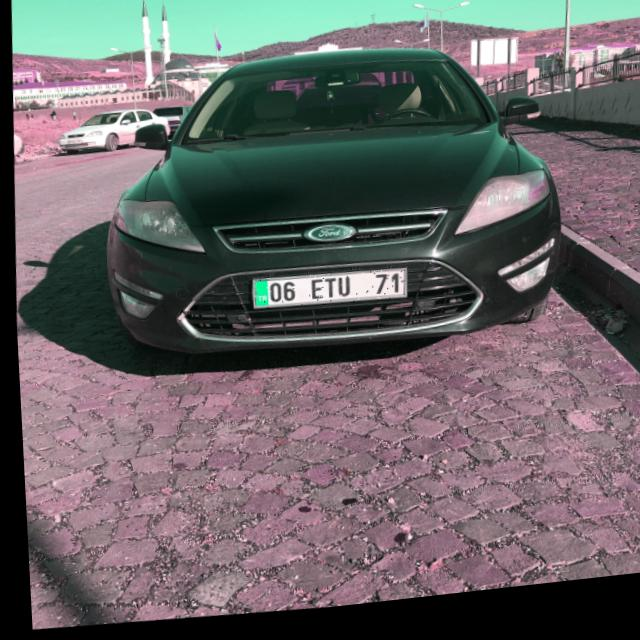license_plate: (249, 271, 404, 320)
